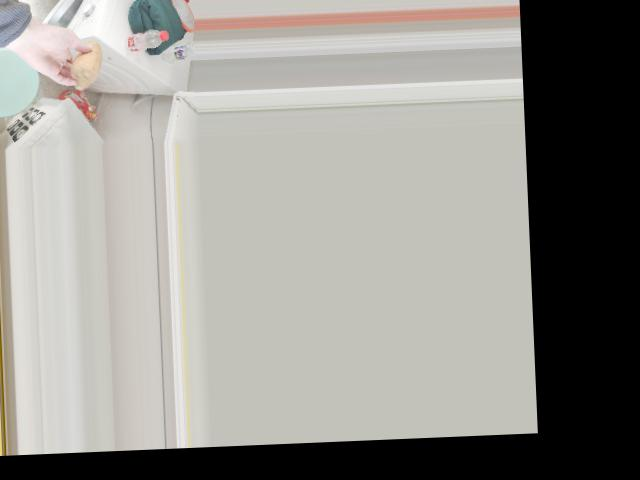sweet_potato: (65, 43, 103, 85)
